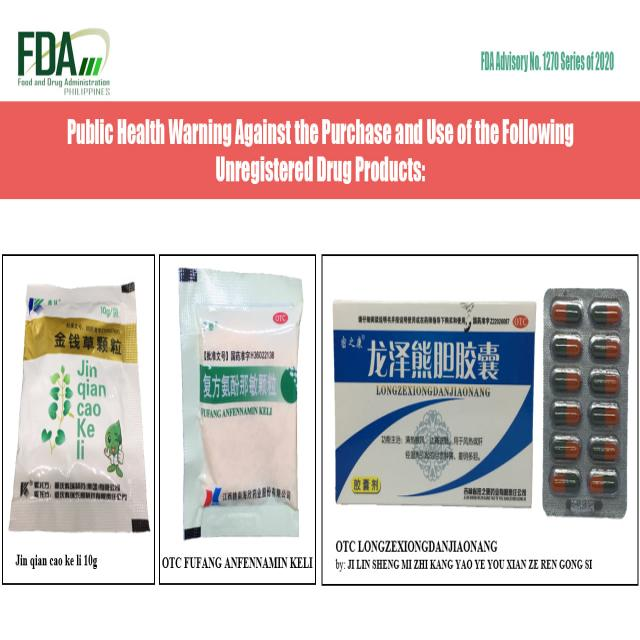counterfeit: (330, 296, 535, 514), (175, 259, 306, 547), (22, 268, 150, 551), (541, 284, 632, 522)
